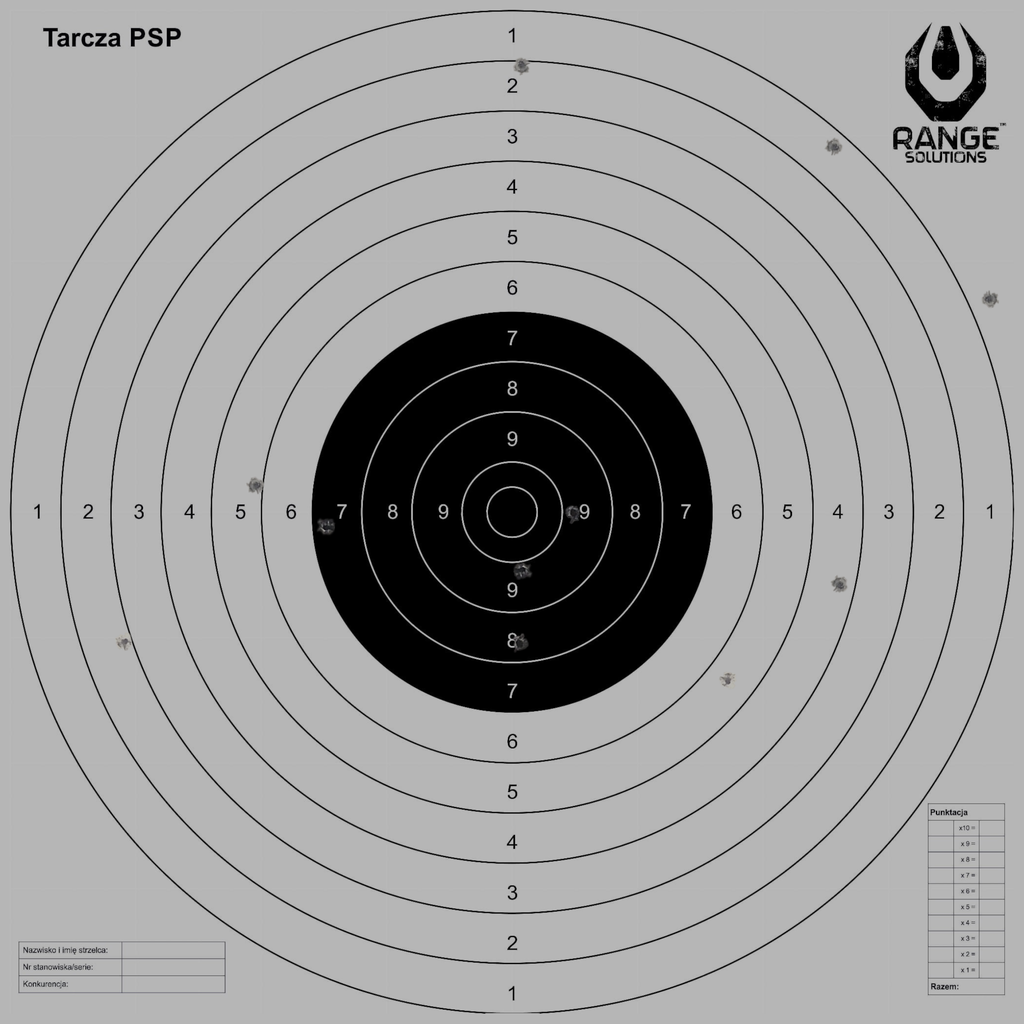0 punktow: (980, 290, 999, 308)
1 punkt: (825, 138, 844, 156)
10 punktow: (513, 561, 532, 579)
2 punkty: (512, 56, 531, 75)
3 punkty: (116, 633, 134, 651)
4 punkty: (831, 576, 849, 594)
5 punktow: (719, 671, 737, 690)
6 punktow: (247, 476, 266, 495)
7 punktow: (317, 518, 335, 536)
8 punktow: (510, 634, 529, 652)
9 punktow: (564, 504, 582, 522)
